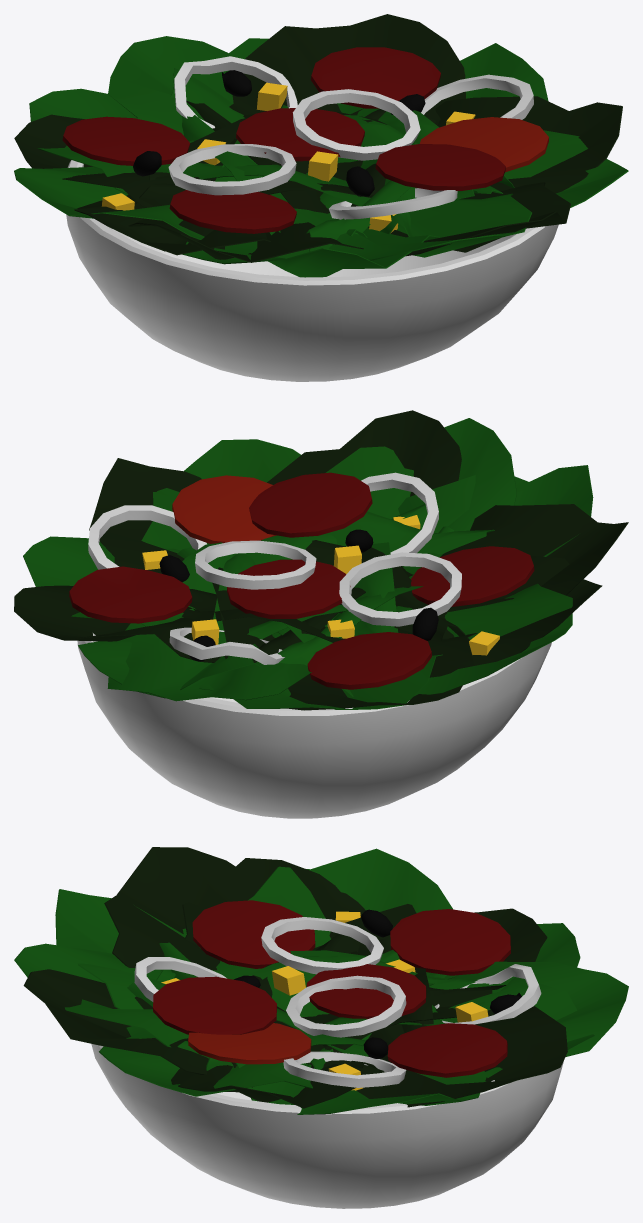
The model's file is Salad_model.FBX.
3 views of the same model, one above another, from view 1: azimuth 30°, elevation 25°; view 2: azimuth 150°, elevation 25°; view 3: azimuth 270°, elevation 25° (orthographic). The views are drawn at different scales.
Visible parts, largest first — view 1: Object028; view 2: Object028; view 3: Object028.
Boxes of the visible parts, bbox=[...] form: Object028: bbox=[14, 14, 628, 381]; Object028: bbox=[14, 410, 628, 818]; Object028: bbox=[14, 847, 628, 1208].
Bounding box in the file's own units: 120 × 54.83 × 130.
